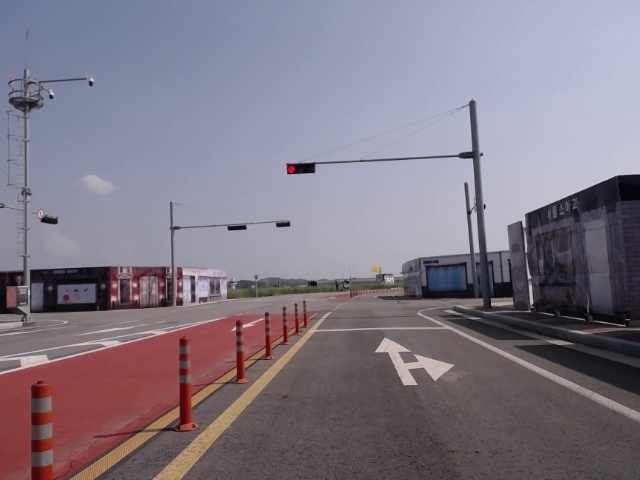red_3: (287, 162, 315, 174)
